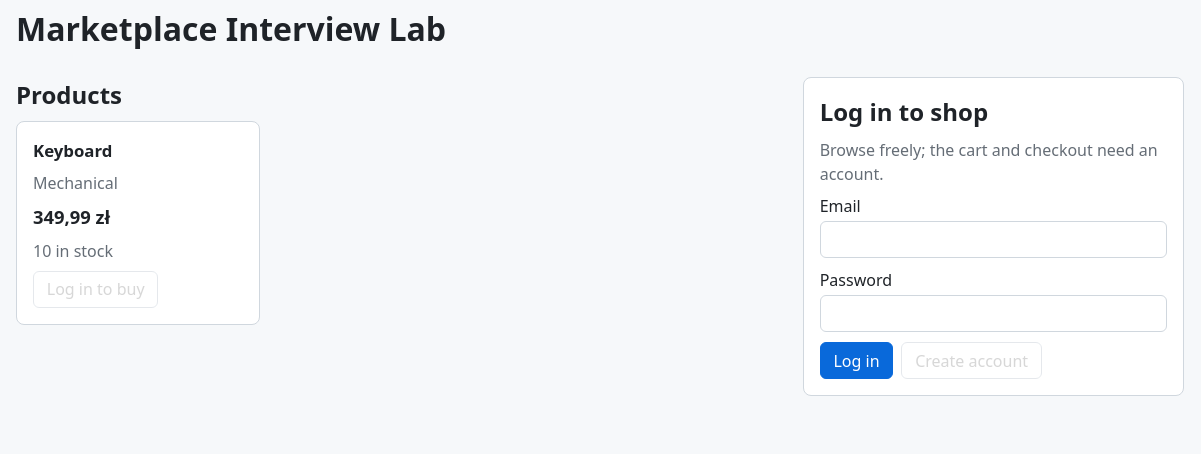
Test case: App authentication › logs in, forgets the password and loads the cart of that user
Expected: the heading "Log in to shop" is shown, left=820, top=95, right=988, bottom=128
Type "alice@example.com" into the field labelled "Email" at (993, 240), box left=820, top=221, right=1167, bottom=258
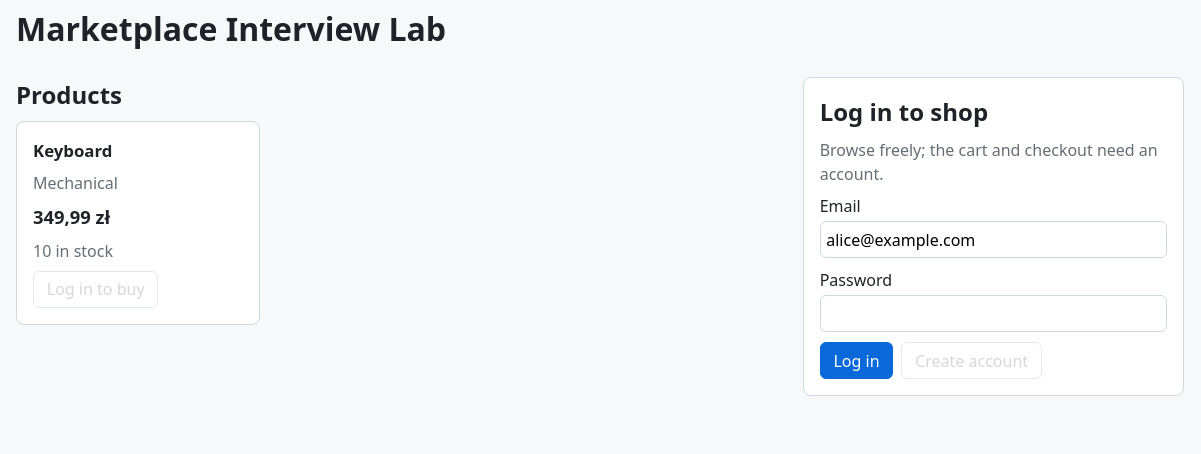
Type "my secret password" into the password field labelled "Password" at (993, 314), box left=820, top=295, right=1167, bottom=332
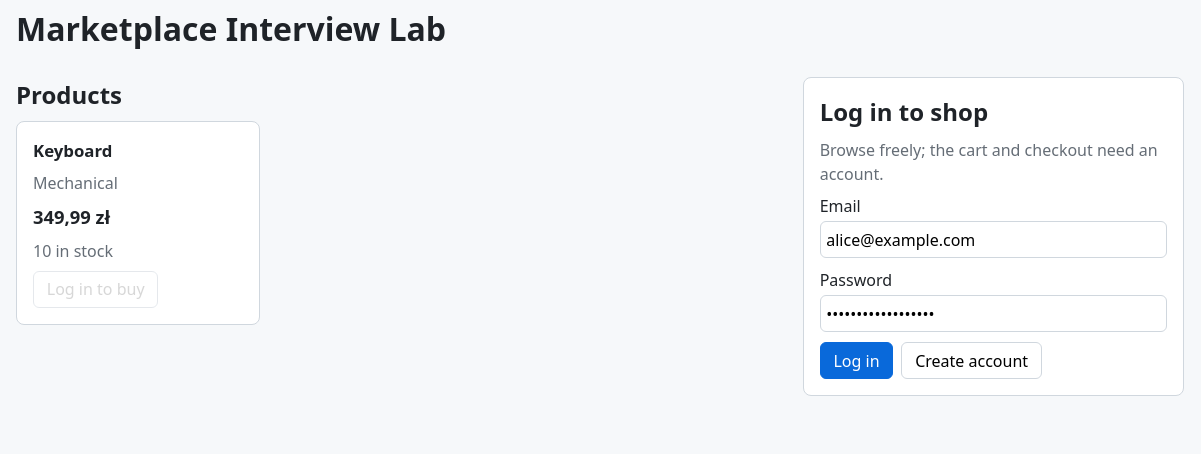
Click the button "Log in" at (857, 360), box left=820, top=342, right=893, bottom=379
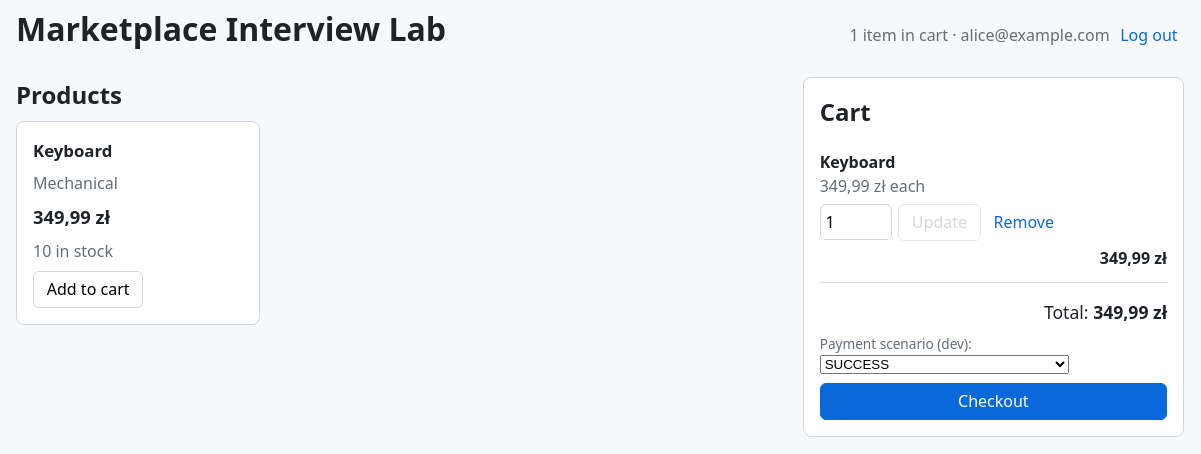
Expected: the text "1 item in cart · alice@example.com Log out" is shown, left=849, top=17, right=1184, bottom=53
Expected: the button "Checkout" is shown, left=820, top=382, right=1167, bottom=420
